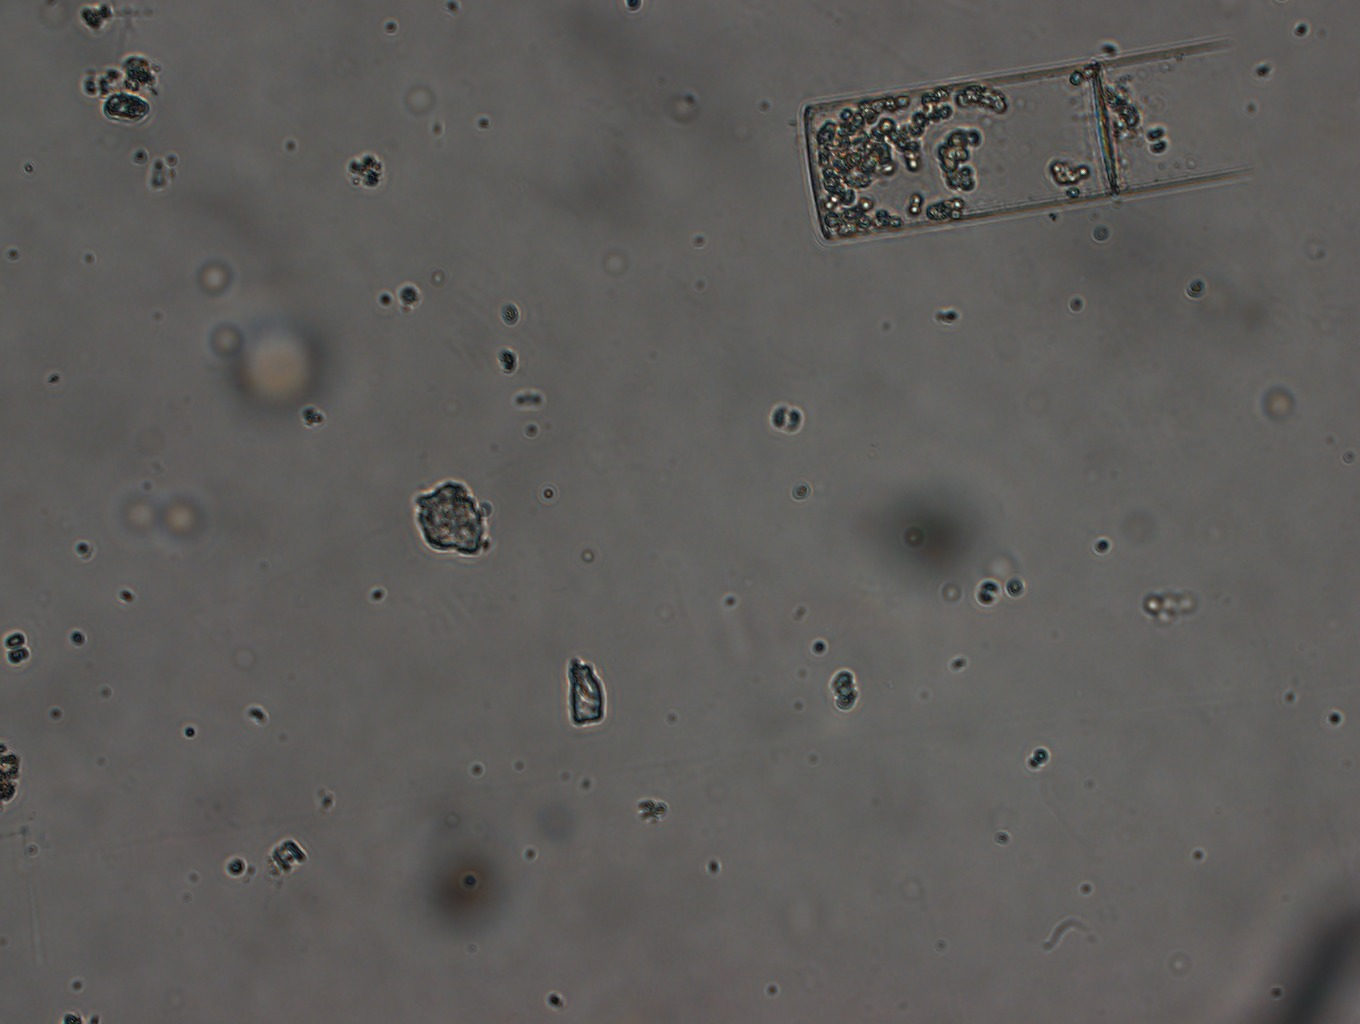guinardia flaccida: (803, 39, 1252, 241)
